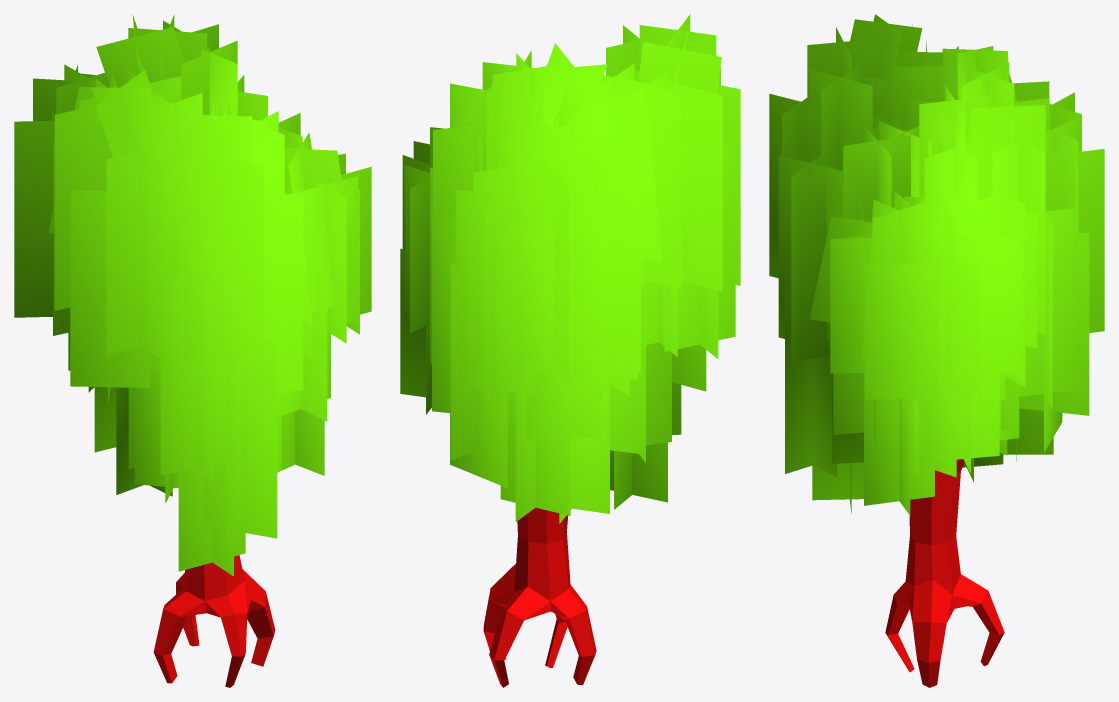
Rendered from nature_SM_Tree_Willow_Medium_01.gltf.
3 renders of one model, left to right at view 1: azimuth 30°, elevation 25°; view 2: azimuth 150°, elevation 25°; view 3: azimuth 270°, elevation 25°, orthographic. The views are drawn at different scales.
Visible parts, largest first — view 1: SM_Tree_Willow_Medium_01; view 2: SM_Tree_Willow_Medium_01; view 3: SM_Tree_Willow_Medium_01.
Part boxes in pixels (x1,y1,x2,y2): SM_Tree_Willow_Medium_01: (14, 14, 371, 687); SM_Tree_Willow_Medium_01: (400, 14, 740, 687); SM_Tree_Willow_Medium_01: (769, 14, 1104, 687).
Size of the model in its own units: 3.36 by 6.68 by 3.36.
